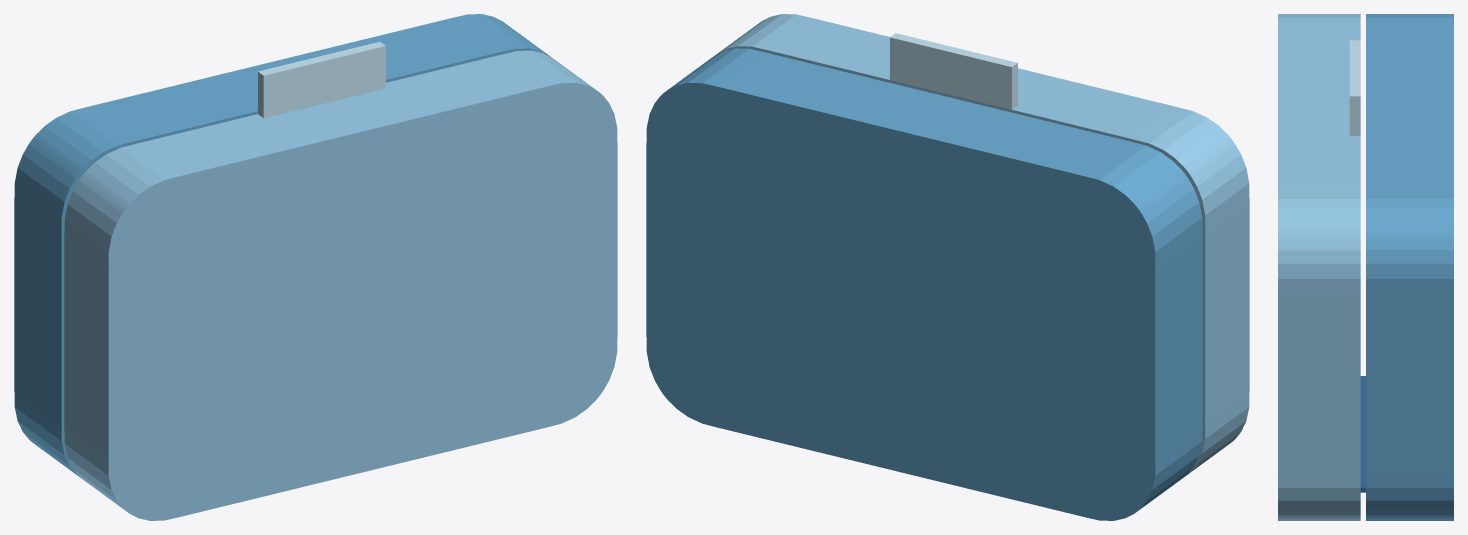
3 renders of one model, left to right at view 1: azimuth 30°, elevation 25°; view 2: azimuth 150°, elevation 25°; view 3: azimuth 270°, elevation 25°, orthographic. The views are drawn at different scales.
Parts seen in each view (by area): view 1: hinged_soap_case; view 2: hinged_soap_case; view 3: hinged_soap_case.
Part boxes in pixels (x1,y1,x2,y2): hinged_soap_case: (14,14,617,520); hinged_soap_case: (646,14,1249,520); hinged_soap_case: (1278,14,1453,520).
Bounding box in the file's own units: 0.1 × 0.074 × 0.032.
1 material, 1 textured.
